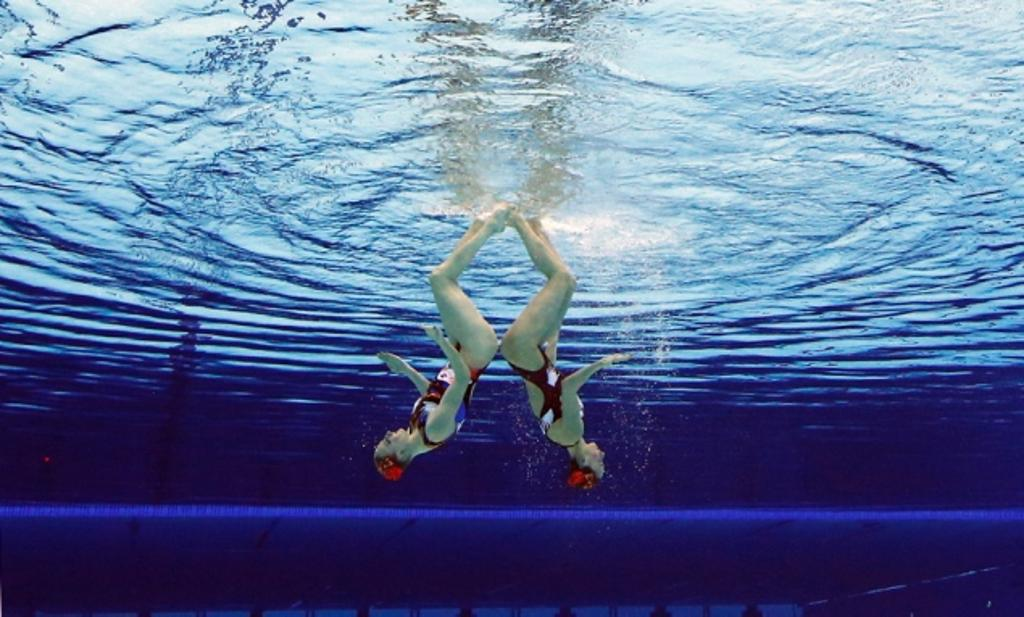face: (372, 426, 411, 460), (581, 442, 606, 478)
